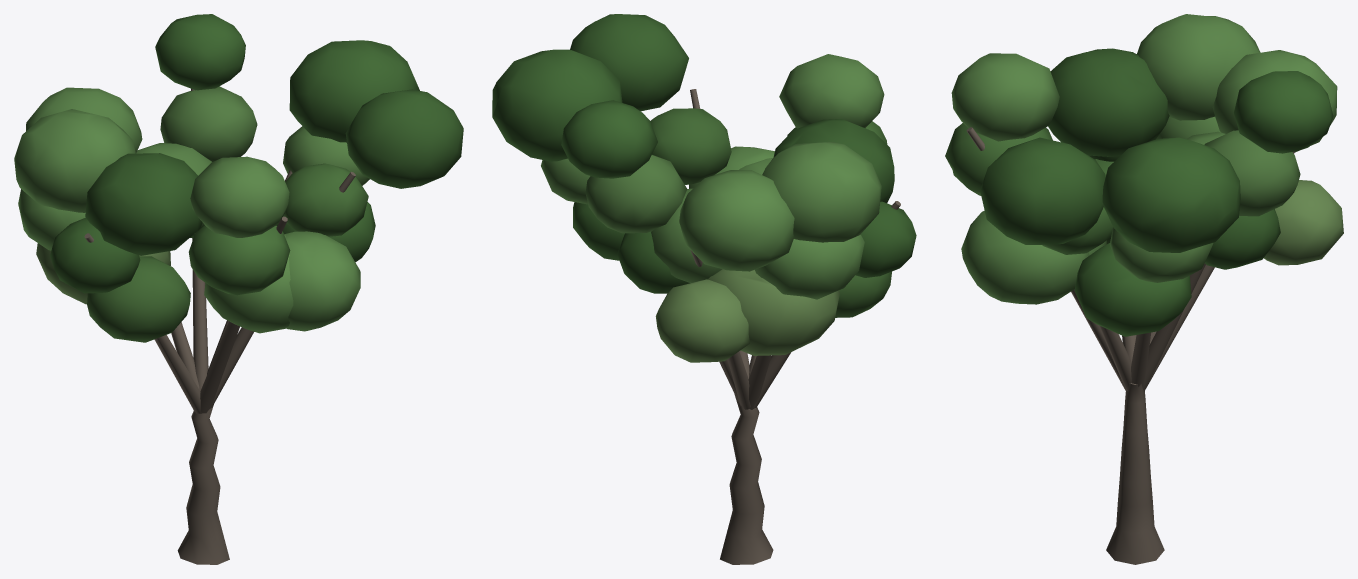
Rendered from tree_zelkova.glb.
The picture shows the model from 3 angles, left to right: view 1: azimuth 30°, elevation 25°; view 2: azimuth 150°, elevation 25°; view 3: azimuth 270°, elevation 25°; orthographic projection. The views are drawn at different scales.
Parts seen in each view (by area): view 1: crown, trunk; view 2: crown, trunk; view 3: crown, trunk.
Boxes of the visible parts, left/top/right/bottom form: crown: left=14, top=14, right=463, bottom=342; trunk: left=84, top=88, right=355, bottom=564; crown: left=492, top=14, right=916, bottom=362; trunk: left=690, top=89, right=900, bottom=564; crown: left=945, top=14, right=1343, bottom=336; trunk: left=966, top=127, right=1295, bottom=564.
Size of the model in its own units: 5.39 by 6.45 by 4.56.
